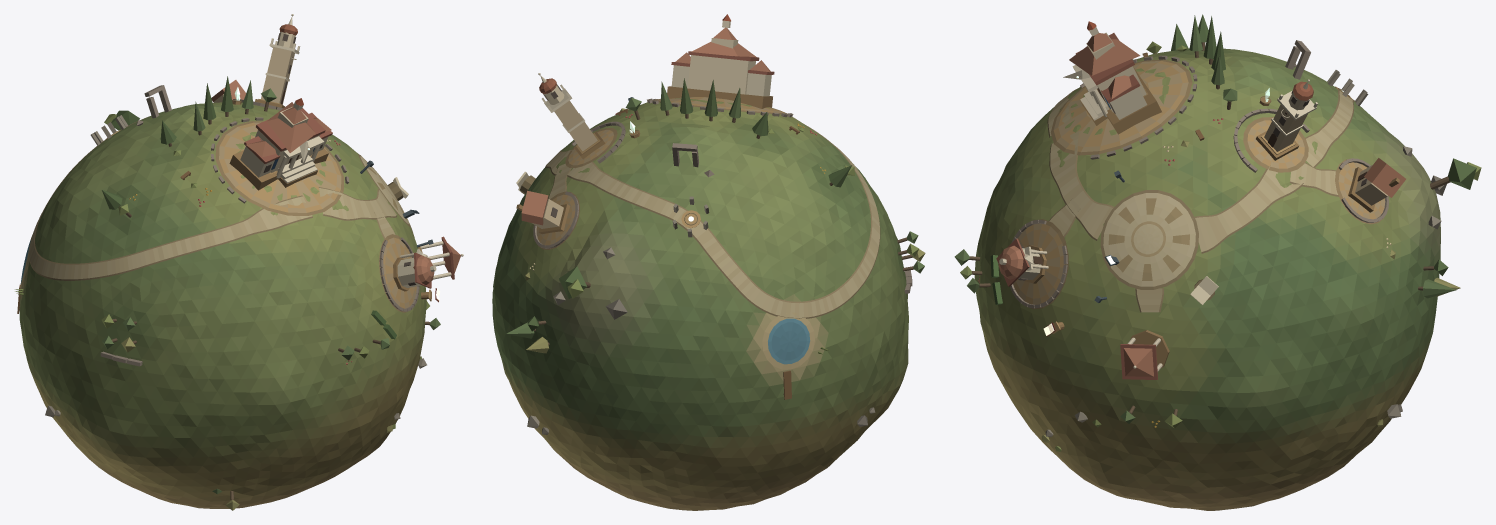
The model's file is learning-v2.glb.
The picture shows the model from 3 angles, left to right: view 1: azimuth 30°, elevation 25°; view 2: azimuth 150°, elevation 25°; view 3: azimuth 270°, elevation 25°; orthographic projection. The views are drawn at different scales.
Visible parts, largest first — view 1: LEARNING_TERRAIN, LEARNING_PATHS_PAVING, LEARNING_DECORATIONS_STATIC, ACADEMY_HALL, ACADEMY_TOWER, LIBRARY, STUDY_PAVILION; view 2: LEARNING_TERRAIN, LEARNING_PATHS_PAVING, LEARNING_DECORATIONS_STATIC, ACADEMY_HALL, ACADEMY_TOWER, GARDEN_CLASSROOM; view 3: LEARNING_TERRAIN, LEARNING_PATHS_PAVING, LEARNING_DECORATIONS_STATIC, ACADEMY_HALL, ACADEMY_TOWER, STUDY_PAVILION, GARDEN_CLASSROOM, LIBRARY.
Boxes of the visible parts, x1,y1,x2,y2 form: LEARNING_TERRAIN: (19,102,426,508); LEARNING_PATHS_PAVING: (20,116,416,312); LEARNING_DECORATIONS_STATIC: (15,76,440,510); ACADEMY_HALL: (229,98,332,190); ACADEMY_TOWER: (255,14,300,108); LIBRARY: (393,249,436,291); STUDY_PAVILION: (418,236,463,279); LEARNING_TERRAIN: (492,98,908,510); LEARNING_PATHS_PAVING: (536,97,880,369); LEARNING_DECORATIONS_STATIC: (506,78,925,434); ACADEMY_HALL: (667,14,774,108); ACADEMY_TOWER: (538,73,605,159); GARDEN_CLASSROOM: (516,190,570,234); LEARNING_TERRAIN: (974,48,1440,510); LEARNING_PATHS_PAVING: (1013,59,1385,312); LEARNING_DECORATIONS_STATIC: (954,14,1481,451); ACADEMY_HALL: (1063,21,1161,134); ACADEMY_TOWER: (1256,79,1317,160); STUDY_PAVILION: (1120,330,1169,379); GARDEN_CLASSROOM: (1348,158,1405,212); LIBRARY: (996,238,1048,286).
Bounding box in the file's own units: 9.18 × 9.66 × 9.59.
